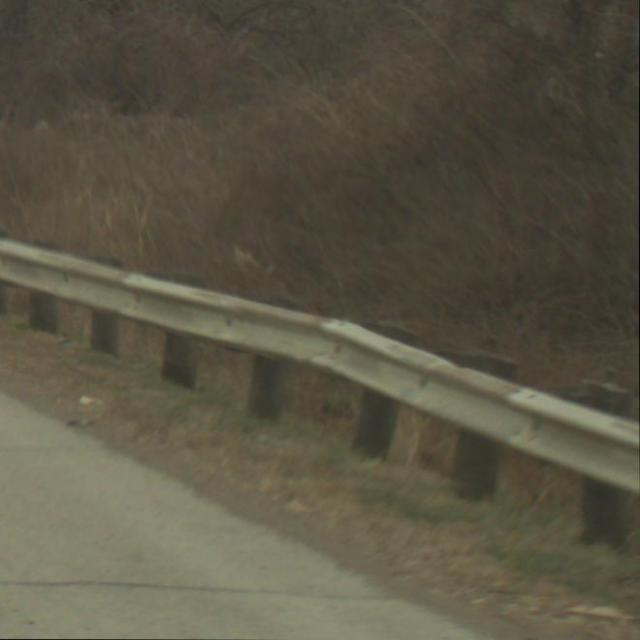Guard rail: (1, 233, 640, 566)
